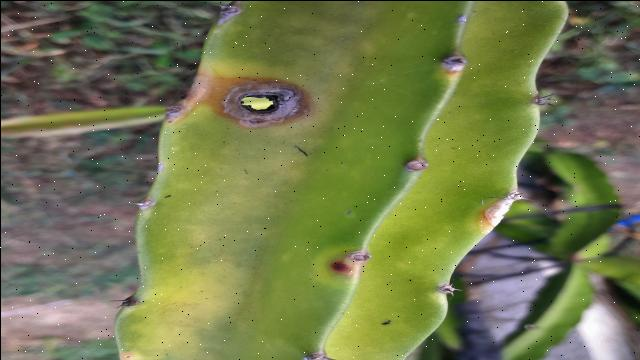stemcanker: (325, 246, 376, 280), (443, 49, 473, 76), (399, 154, 431, 177)
